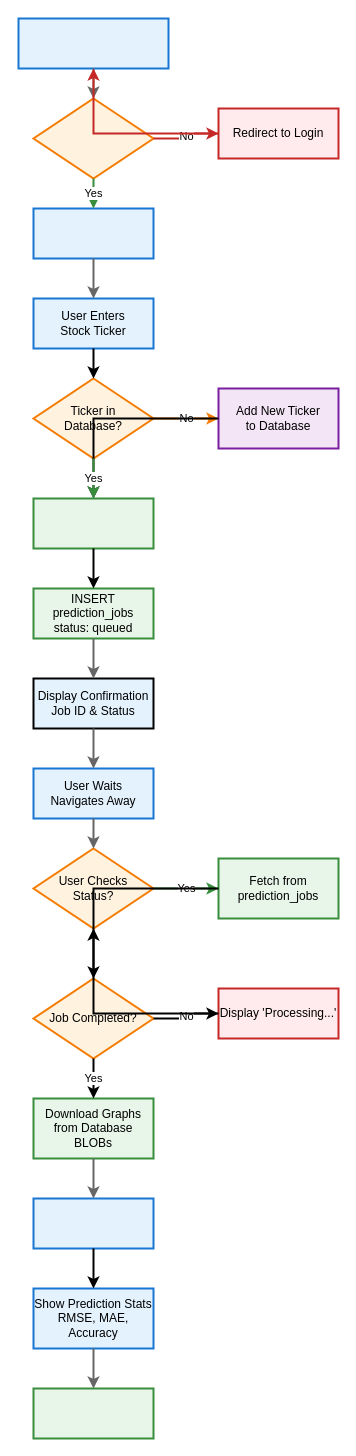
Some shapes in this 356 by 1456 pixel diagram are drawn without their labels. Here are the shapes that lost their labels. From the top down, the centre of each, then its label:
At [93,43]: "User Accesses Web Portal".
At [93,138]: "Authentication Success?".
At [93,233]: "Display Stock Search".
At [93,523]: "Queue Prediction Job".
At [93,1223]: "Render Forecast Chart + CI".
At [93,1413]: "User Reviews Results".
